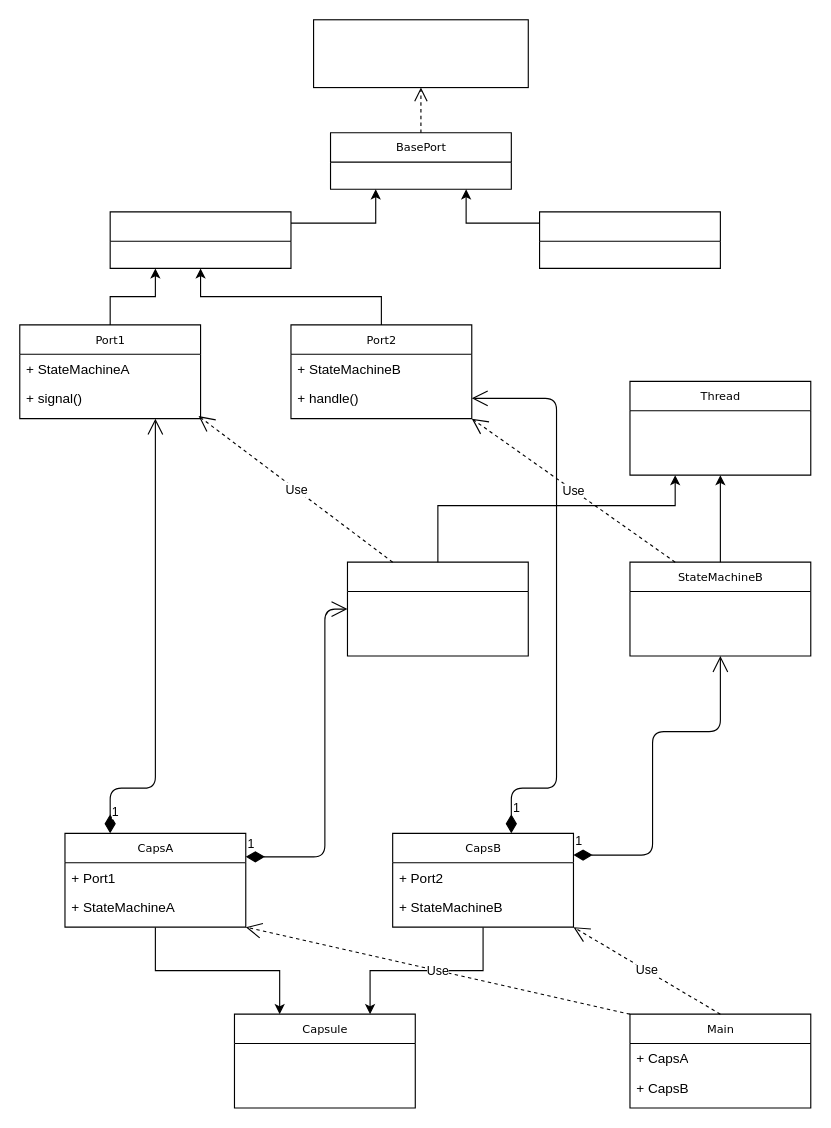
Some shapes in this 831 by 1128 pixel diagram are drawn without their labels. Each missing label, with the centre of its shape:
<<Interface>> IPortProtocolRole: (x=420, y=53)
BaseEndPort: (x=200, y=239)
BaseRelayPort: (x=629, y=239)
StateMachineA: (x=437, y=608)
